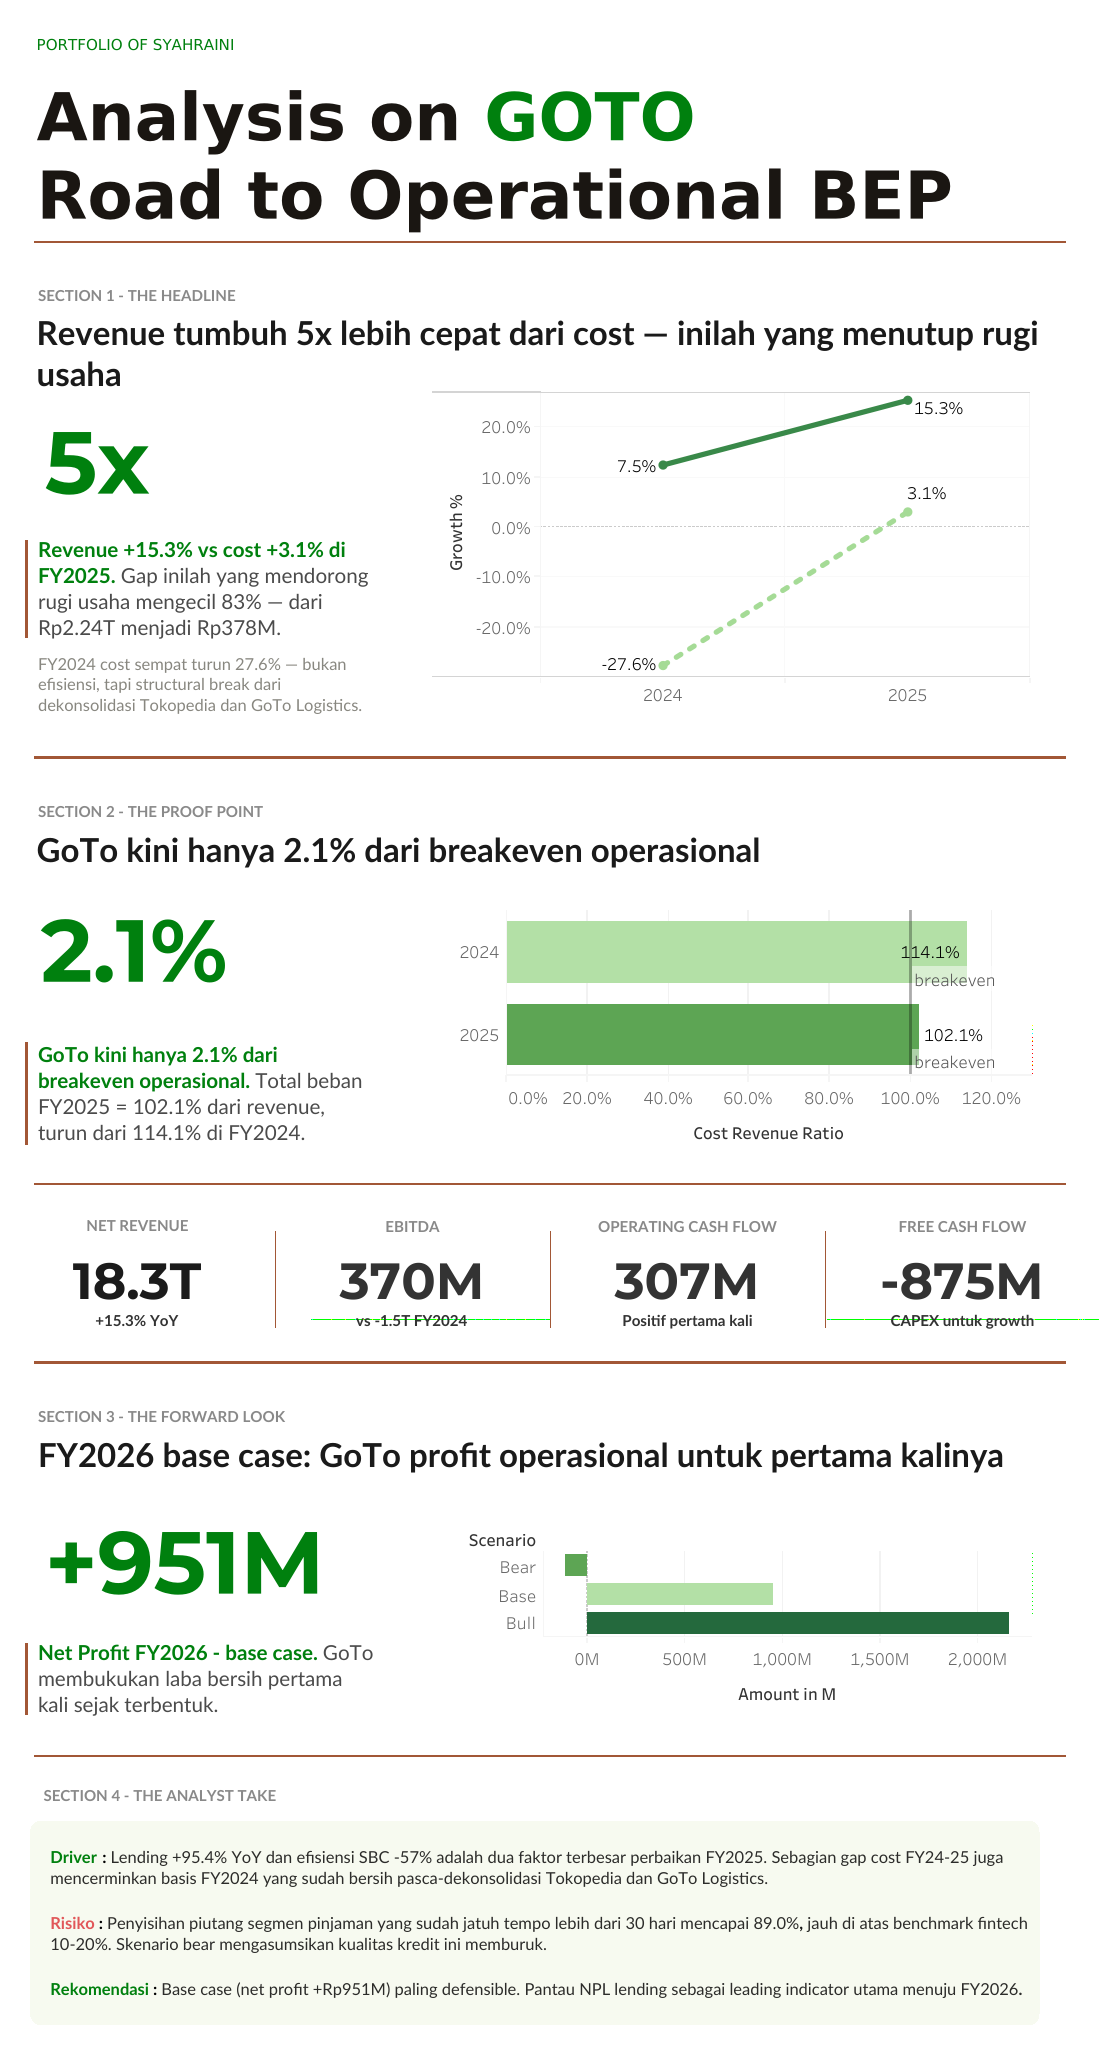

The dashboard page shown, as its layout file describes it:
{"tool":"tableau","page":{"name":"Dashboard 1","canvas":[800,1500],"ordinal":0},"visuals":[{"type":"text","box":[20,13,755,170]},{"type":"legend","title":"2026F","param":"[federated.18hdgh41ugjm0j192lpq40q6sqsl].[none:Scenario:nk]","box":[25,175,750,2]},{"type":"text","box":[25,200,400,30]},{"type":"text","box":[20,218,755,77]},{"type":"worksheet","title":"Revenue Cost Growth","mark":"Line","rows":["Calculation_0014171125182496","Calculation_0014171125448737"],"cols":["Year"],"box":[315,285,435,230]},{"type":"text","box":[30,301,250,70]},{"type":"text","box":[25,387,250,82]},{"type":"text","box":[25,472,250,50]},{"type":"text","box":[25,575,400,30]},{"type":"text","box":[20,595,755,46]},{"type":"text","box":[27,660,250,62]},{"type":"worksheet","title":"BEP","mark":"Bar","rows":["Year"],"cols":["Calculation_0014171151101998"],"box":[315,662,435,177]},{"type":"text","box":[25,755,250,80]},{"type":"worksheet","title":"Net Revenue","mark":"Automatic","box":[0,859,200,100]},{"type":"worksheet","title":"EBITDA","mark":"Automatic","box":[200,859,200,100]},{"type":"worksheet","title":"OCF","mark":"Automatic","box":[400,859,200,100]},{"type":"worksheet","title":"FCF","mark":"Automatic","box":[600,859,200,100]},{"type":"text","box":[0,875,200,32]},{"type":"text","box":[200,876,200,32]},{"type":"text","box":[400,876,200,32]},{"type":"text","box":[600,876,200,32]},{"type":"text","box":[0,945,200,30]},{"type":"text","box":[200,945,200,30]},{"type":"text","box":[400,945,200,30]},{"type":"text","box":[600,945,200,30]},{"type":"text","box":[25,1015,400,30]},{"type":"text","box":[21,1035,755,46]},{"type":"text","box":[30,1105,250,62]},{"type":"worksheet","title":"2026F","mark":"Bar","rows":["Scenario"],"cols":["Amount in T (copy)_0014309985673278"],"box":[315,1108,435,140]},{"type":"text","box":[25,1190,250,60]},{"type":"text","box":[29,1291,400,30]},{"type":"text","box":[22,1324,734,149]}]}

Visuals, with their boxes in screenshot pixels (x1, y1, x2, y2), scaled from the page's 800x1500 canvas onto the 1099x2061 screenshot:
text: region(27, 18, 1065, 251)
"2026F" legend: region(34, 240, 1065, 243)
text: region(34, 275, 584, 316)
text: region(27, 300, 1065, 405)
"Revenue Cost Growth" worksheet (Line marks): region(433, 392, 1030, 708)
text: region(41, 414, 385, 510)
text: region(34, 532, 378, 644)
text: region(34, 649, 378, 717)
text: region(34, 790, 584, 831)
text: region(27, 818, 1065, 881)
text: region(37, 907, 381, 992)
"BEP" worksheet (Bar marks): region(433, 910, 1030, 1153)
text: region(34, 1037, 378, 1147)
"Net Revenue" worksheet: region(0, 1180, 275, 1318)
"EBITDA" worksheet: region(275, 1180, 550, 1318)
"OCF" worksheet: region(550, 1180, 824, 1318)
"FCF" worksheet: region(824, 1180, 1098, 1318)
text: region(0, 1202, 275, 1246)
text: region(275, 1204, 550, 1248)
text: region(550, 1204, 824, 1248)
text: region(824, 1204, 1098, 1248)
text: region(0, 1298, 275, 1340)
text: region(275, 1298, 550, 1340)
text: region(550, 1298, 824, 1340)
text: region(824, 1298, 1098, 1340)
text: region(34, 1395, 584, 1436)
text: region(29, 1422, 1066, 1485)
text: region(41, 1518, 385, 1603)
"2026F" worksheet (Bar marks): region(433, 1522, 1030, 1715)
text: region(34, 1635, 378, 1718)
text: region(40, 1774, 589, 1815)
text: region(30, 1819, 1039, 2024)
